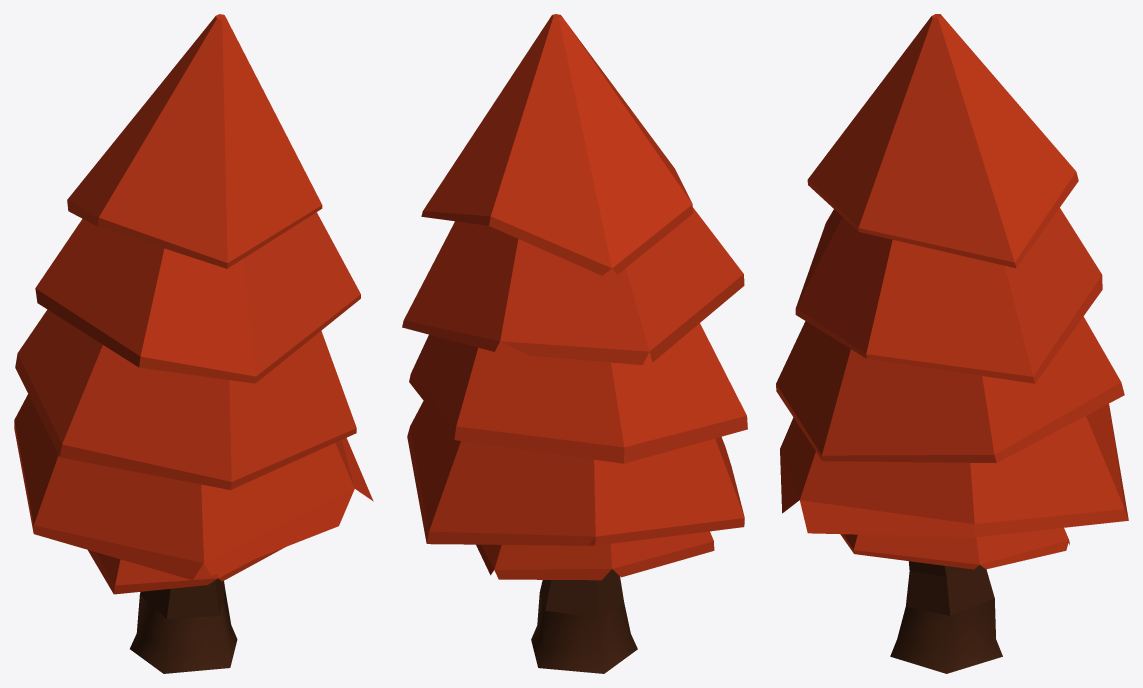
File: Tree_06.FBX
The picture shows the model from 3 angles, left to right: view 1: azimuth 30°, elevation 25°; view 2: azimuth 150°, elevation 25°; view 3: azimuth 270°, elevation 25°; orthographic projection. The views are drawn at different scales.
Visible parts, largest first — view 1: Object007, Cylinder004; view 2: Object007, Cylinder004; view 3: Object007, Cylinder004.
Part boxes in pixels (left/top/right/bottom): Object007: left=14, top=14, right=373, bottom=594; Cylinder004: left=130, top=578, right=237, bottom=673; Object007: left=402, top=14, right=747, bottom=580; Cylinder004: left=531, top=569, right=637, bottom=673; Object007: left=776, top=14, right=1128, bottom=569; Cylinder004: left=890, top=561, right=1002, bottom=673.
Size of the model in its own units: 25.41 by 47.79 by 23.58.
